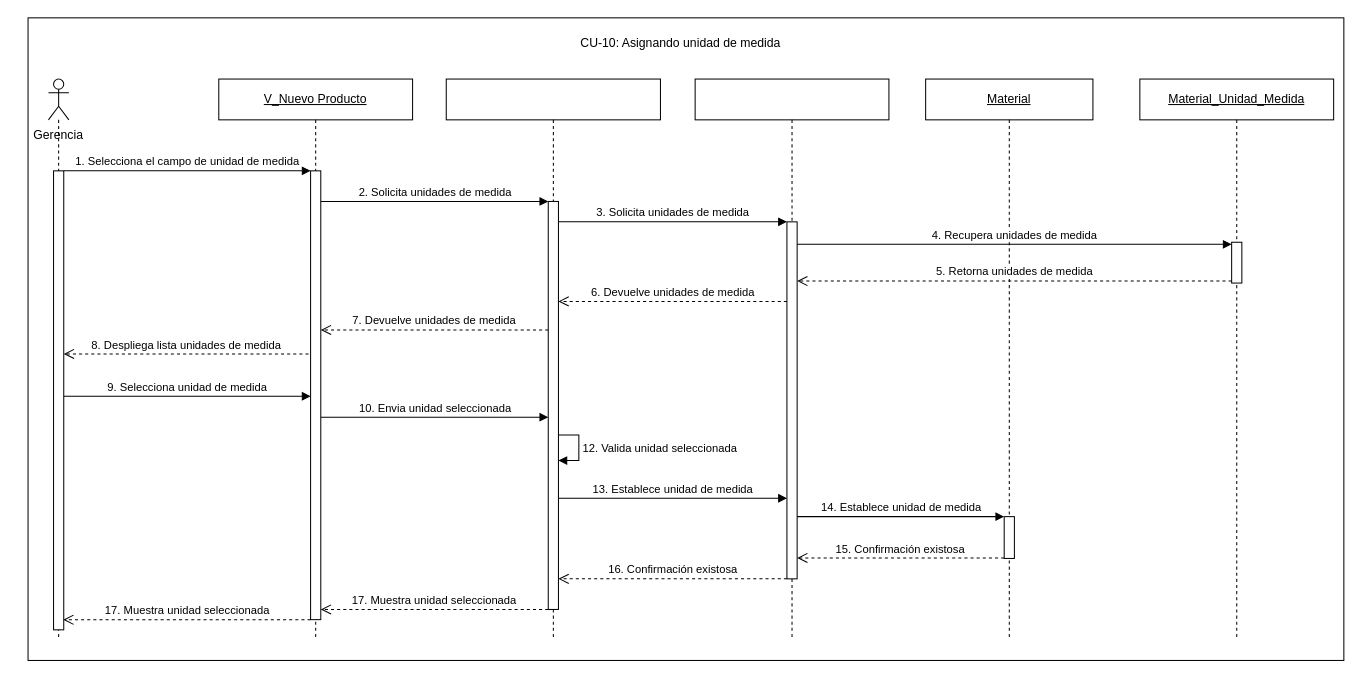
The diagram is 1362 pixels wide and 678 high, and some of its shapes have lost their labels. The shapes that lost their labels are listed below. From the top down, each one's box as (x1, y1, x2, y2) in pixels, then its label:
(445, 78, 660, 640): C_materiales
(694, 78, 889, 640): C_Postgre
